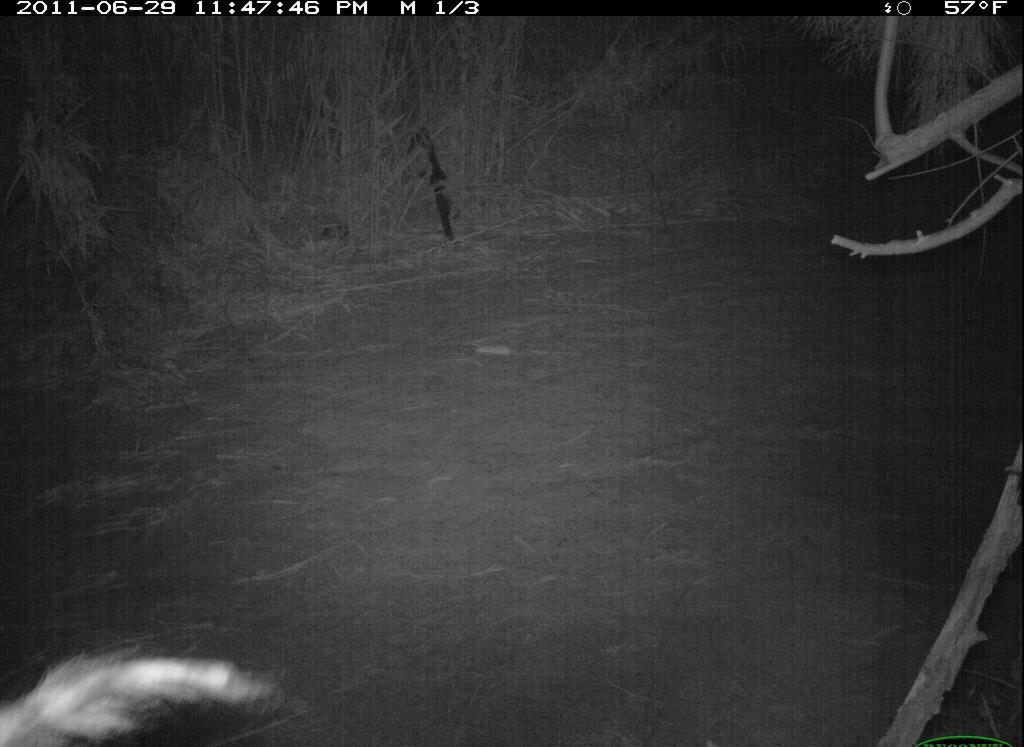raccoon: (2, 623, 306, 747)
